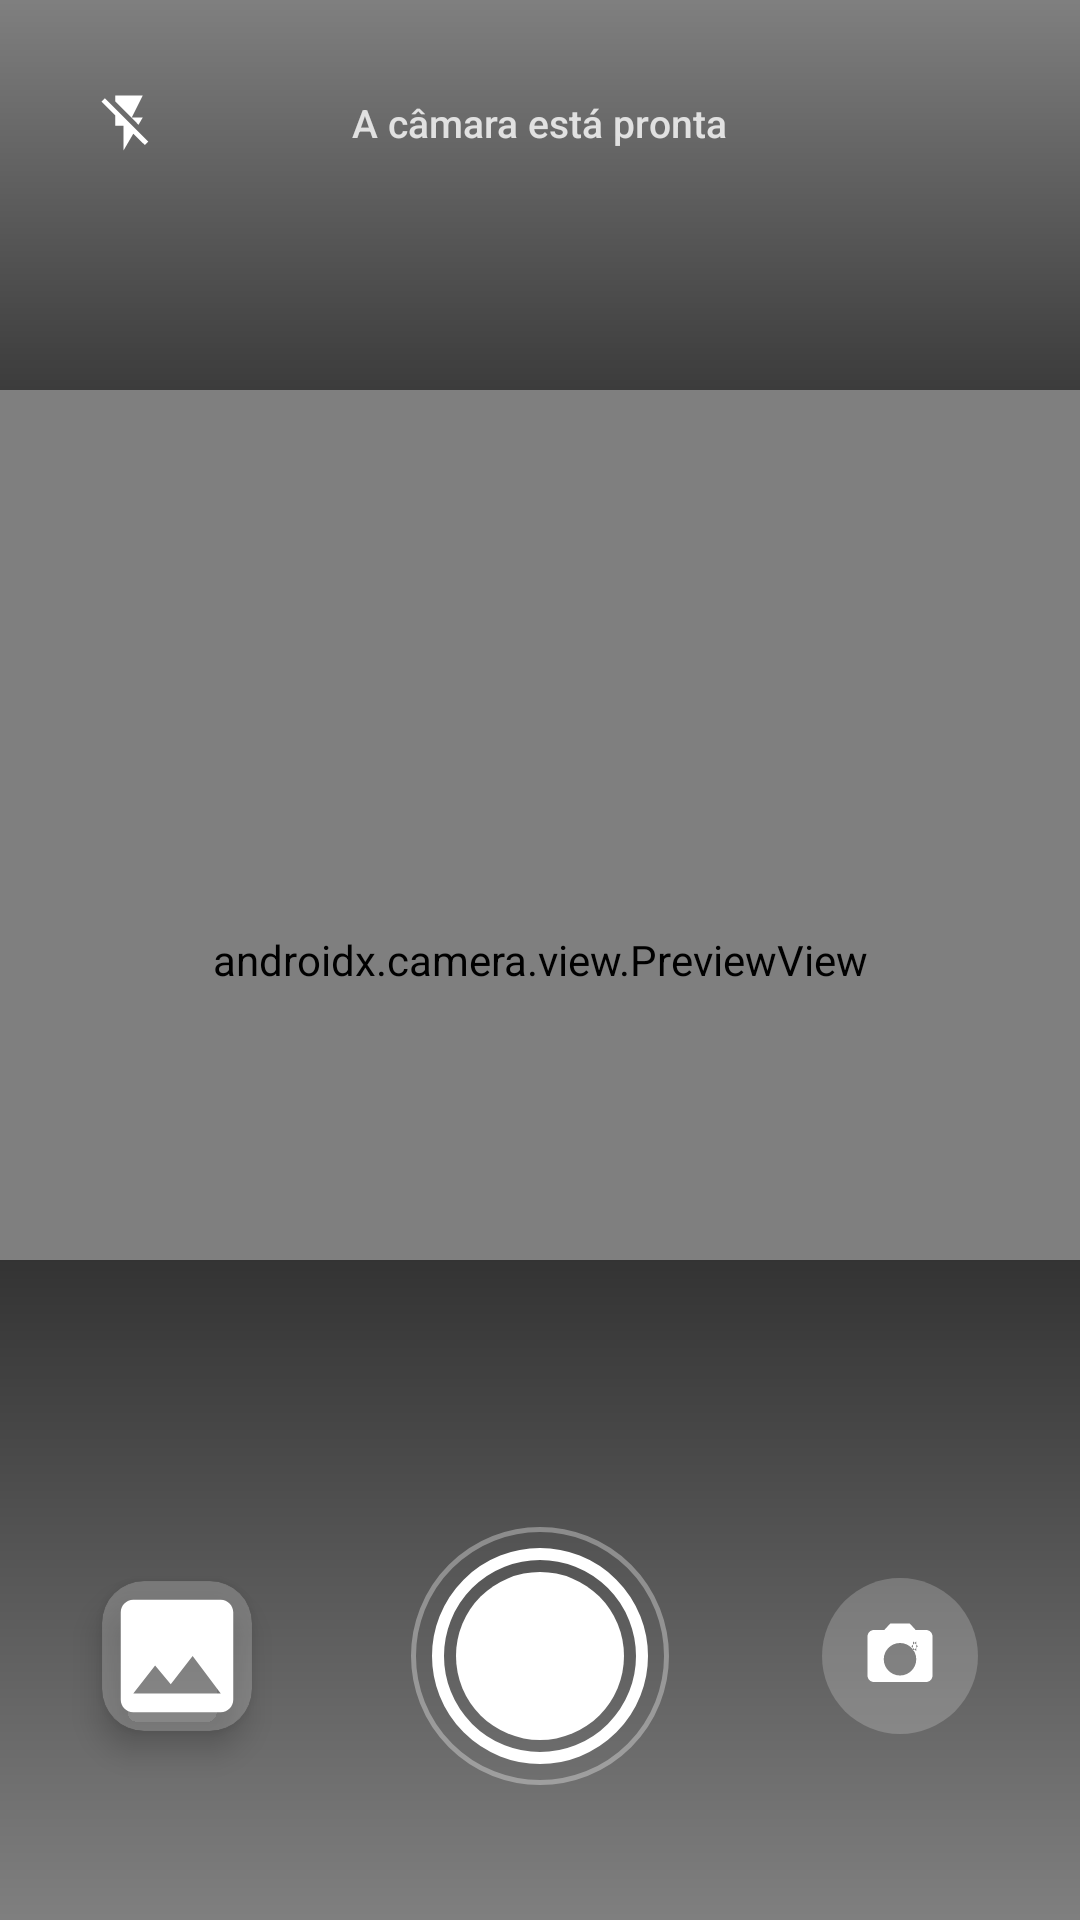

Point at icon controls on the screen. Image size 1080 x 1920, points as (x=x, y=y).
Trocar câmara: (x=900, y=1678)
